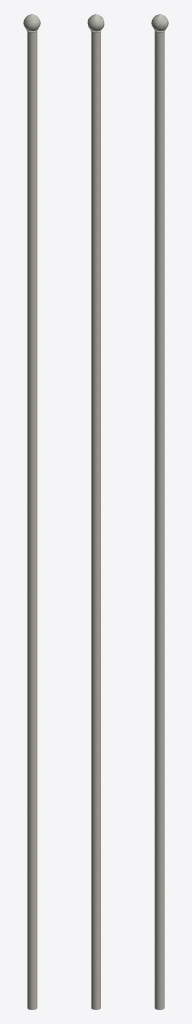
The model's file is SM_Flagpole.fbx.
3 views of the same model, side by side, from view 1: azimuth 90°, elevation 25°; view 2: azimuth 150°, elevation 25°; view 3: azimuth 270°, elevation 25° (orthographic).
Visible parts, largest first — view 1: SM_Flagpole; view 2: SM_Flagpole; view 3: SM_Flagpole.
Part boxes in pixels (x1=…): SM_Flagpole: x1=23, y1=14, x2=40, y2=1009; SM_Flagpole: x1=87, y1=14, x2=104, y2=1009; SM_Flagpole: x1=151, y1=14, x2=168, y2=1009.
Size of the model in its own units: 12.46 by 13.1 by 830.
